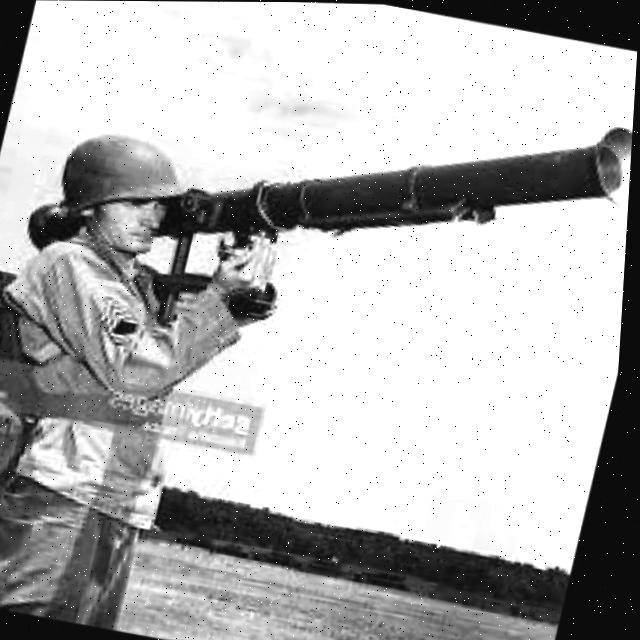rocket: (18, 18, 639, 353)
